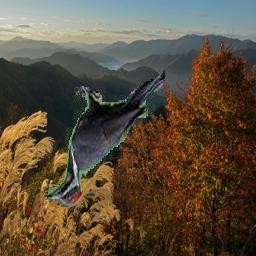Woodpecker: (44, 71, 166, 208)
